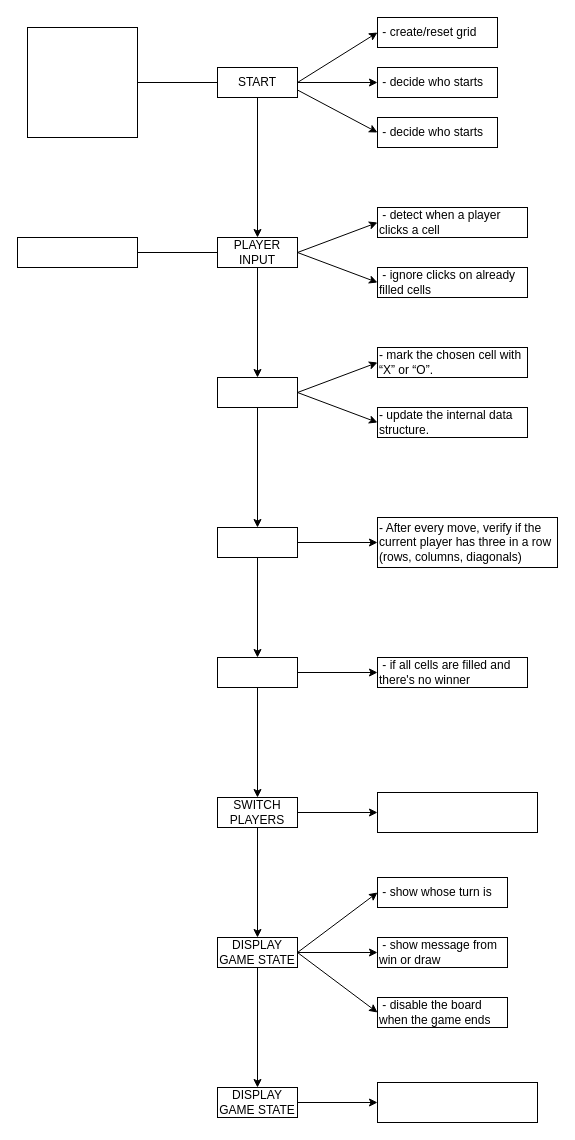
Image size: 575x1140. Some labels were removed from this diagram. Each missing label, with the centre of its shape:
- alternate betwwn players (X, Y) after a valid move: (x=457, y=812)
- clear the board and start a new match: (x=457, y=1102)
CHECK FOR DRAW: (x=257, y=672)
CHECK FOR WIN: (x=257, y=542)
mouse input: (x=77, y=252)
TYPE IN YOUR NAME TO START THE GAME: (x=82, y=82)
UPDATE THE BOARD: (x=257, y=392)
